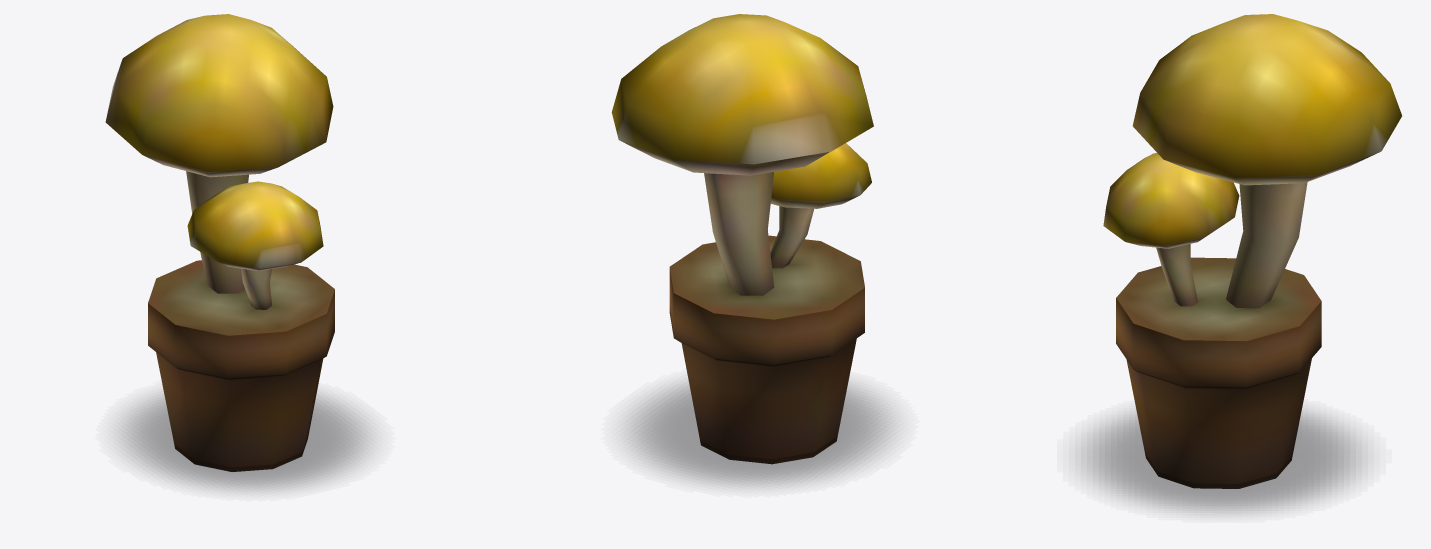
The model's file is BugRoomYellowMushroomPot.glb.
The picture shows the model from 3 angles, left to right: view 1: azimuth 30°, elevation 25°; view 2: azimuth 150°, elevation 25°; view 3: azimuth 270°, elevation 25°; orthographic projection. The views are drawn at different scales.
Parts seen in each view (by area): view 1: YellowMushroomPot, BigCap, FireplaceShadow9, LittleCap, ShroomStemBig, ShroomStemLittle; view 2: YellowMushroomPot, BigCap, FireplaceShadow9, ShroomStemBig, LittleCap, ShroomStemLittle; view 3: YellowMushroomPot, BigCap, FireplaceShadow9, LittleCap, ShroomStemBig, ShroomStemLittle.
Boxes of the visible parts, x1,y1,x2,y2 form: YellowMushroomPot: [148, 260, 334, 471]; BigCap: [105, 14, 333, 177]; FireplaceShadow9: [118, 393, 372, 491]; LittleCap: [187, 181, 323, 270]; ShroomStemBig: [186, 171, 248, 293]; ShroomStemLittle: [241, 268, 271, 309]; YellowMushroomPot: [669, 235, 864, 464]; BigCap: [611, 14, 873, 175]; FireplaceShadow9: [625, 381, 895, 487]; ShroomStemBig: [704, 172, 774, 295]; LittleCap: [770, 143, 871, 208]; ShroomStemLittle: [770, 206, 813, 268]; YellowMushroomPot: [1116, 257, 1321, 488]; BigCap: [1132, 14, 1401, 185]; FireplaceShadow9: [1081, 410, 1361, 513]; LittleCap: [1103, 153, 1239, 248]; ShroomStemBig: [1226, 182, 1307, 308]; ShroomStemLittle: [1156, 244, 1197, 306].
Bounding box in the file's own units: 2.85 × 3.75 × 3.01.
Materials: 2 (2 with a texture image).
